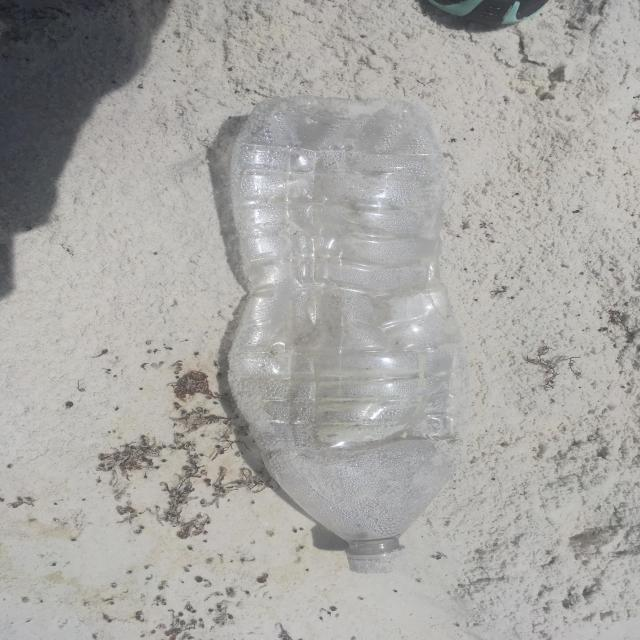litter: (228, 98, 459, 576)
